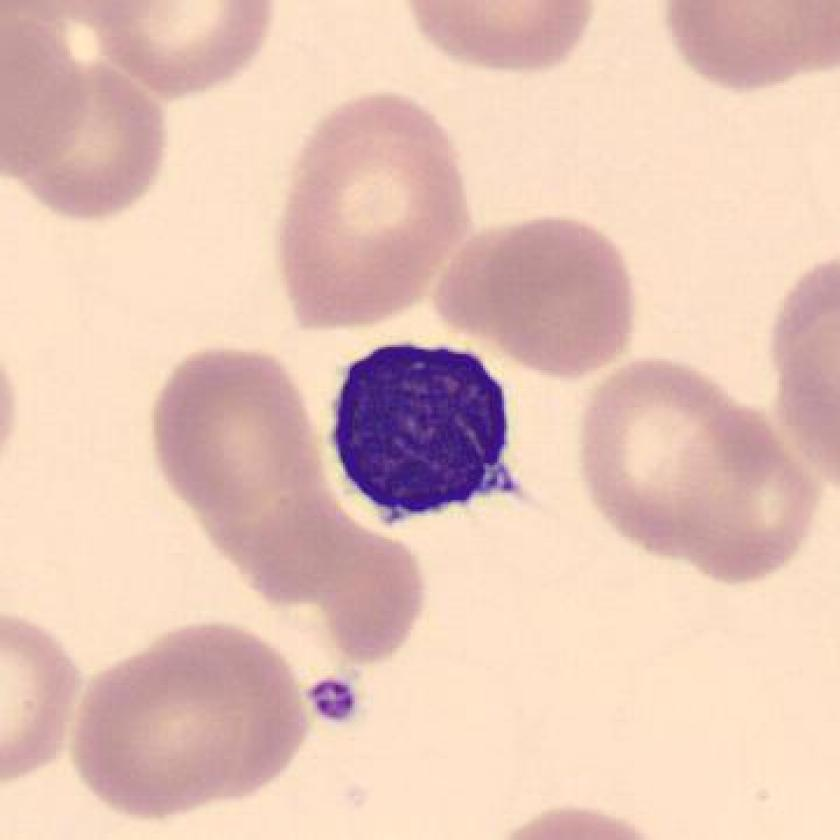lymphocyte: (312, 328, 543, 534)
platelets: (302, 675, 363, 730)
